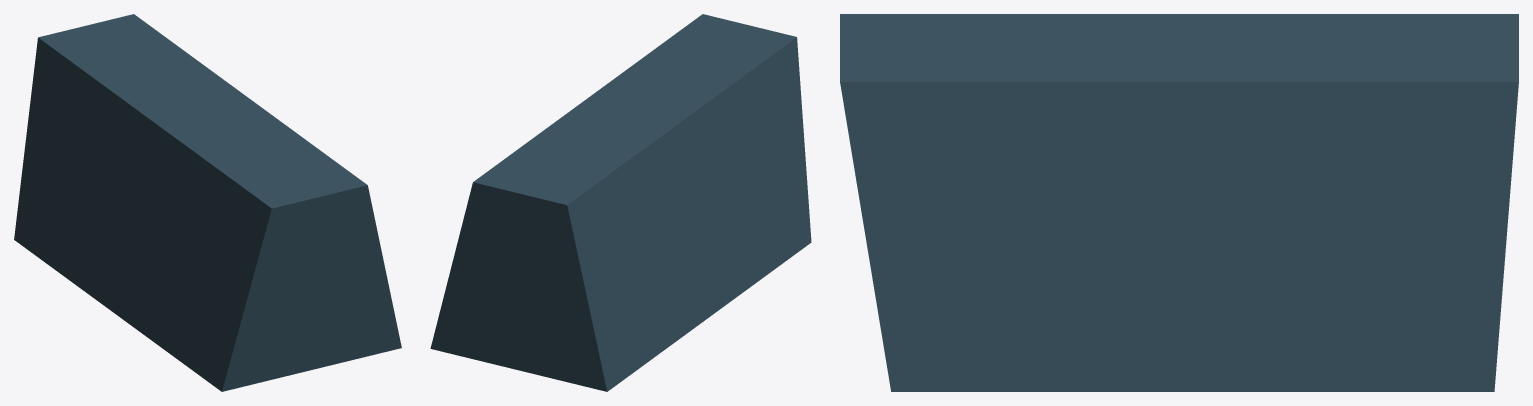
Rendered from TOIT4.fbx.
The picture shows the model from 3 angles, left to right: view 1: azimuth 30°, elevation 25°; view 2: azimuth 150°, elevation 25°; view 3: azimuth 270°, elevation 25°; orthographic projection. The views are drawn at different scales.
Parts seen in each view (by area): view 1: TOIT4; view 2: TOIT4; view 3: TOIT4.
Boxes of the visible parts, x1,y1,x2,y2 form: TOIT4: (14, 14, 401, 391); TOIT4: (430, 14, 811, 391); TOIT4: (840, 14, 1518, 391).
Bounding box in the file's own units: 250 × 250 × 563.
